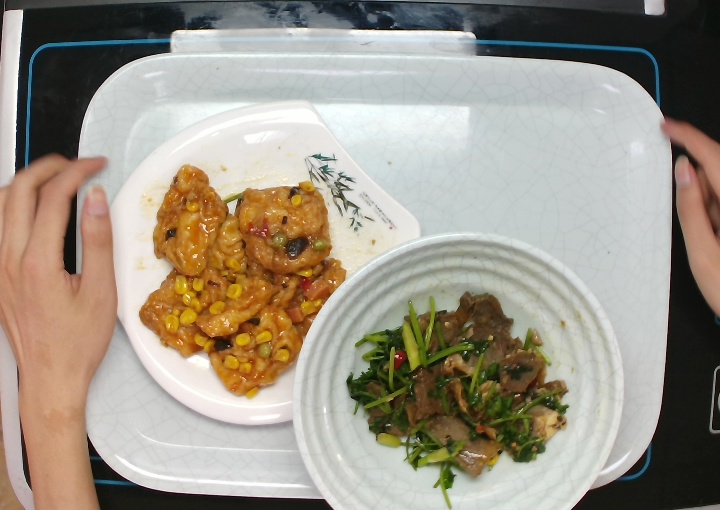JYsf-Da_Tang_Wan: (286, 229, 626, 509)
JYsf-Mian_Pan: (102, 96, 424, 429)
